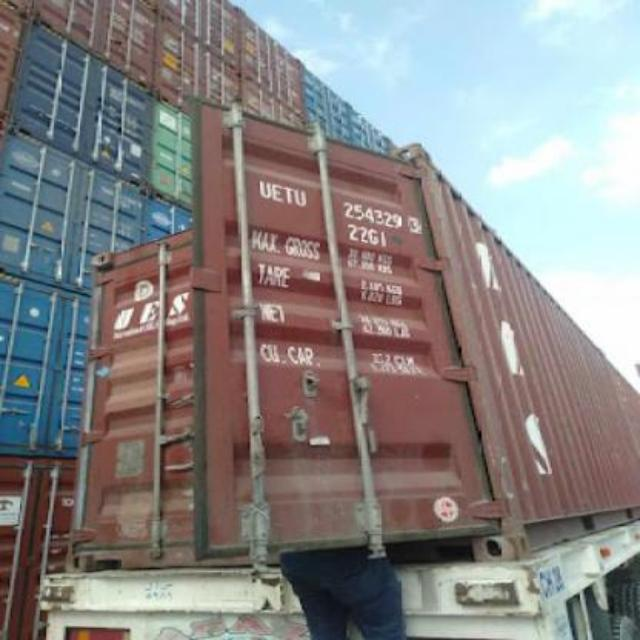2: (382, 201, 392, 231), (342, 198, 354, 220)
3: (408, 212, 420, 235), (374, 204, 384, 228)
4: (364, 201, 374, 225)
5: (354, 200, 364, 224)
9: (392, 206, 402, 232)
E: (272, 180, 284, 204)
T: (284, 182, 294, 212)
U: (255, 176, 271, 202), (294, 184, 306, 212)
